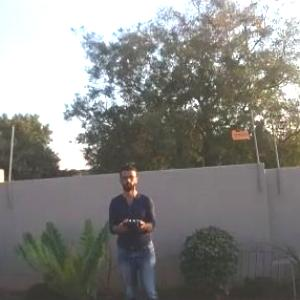follow: (105, 157, 164, 299)
